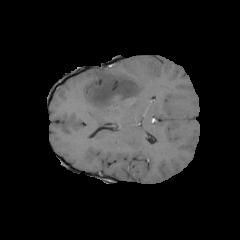glioma: (85, 68, 143, 122)
